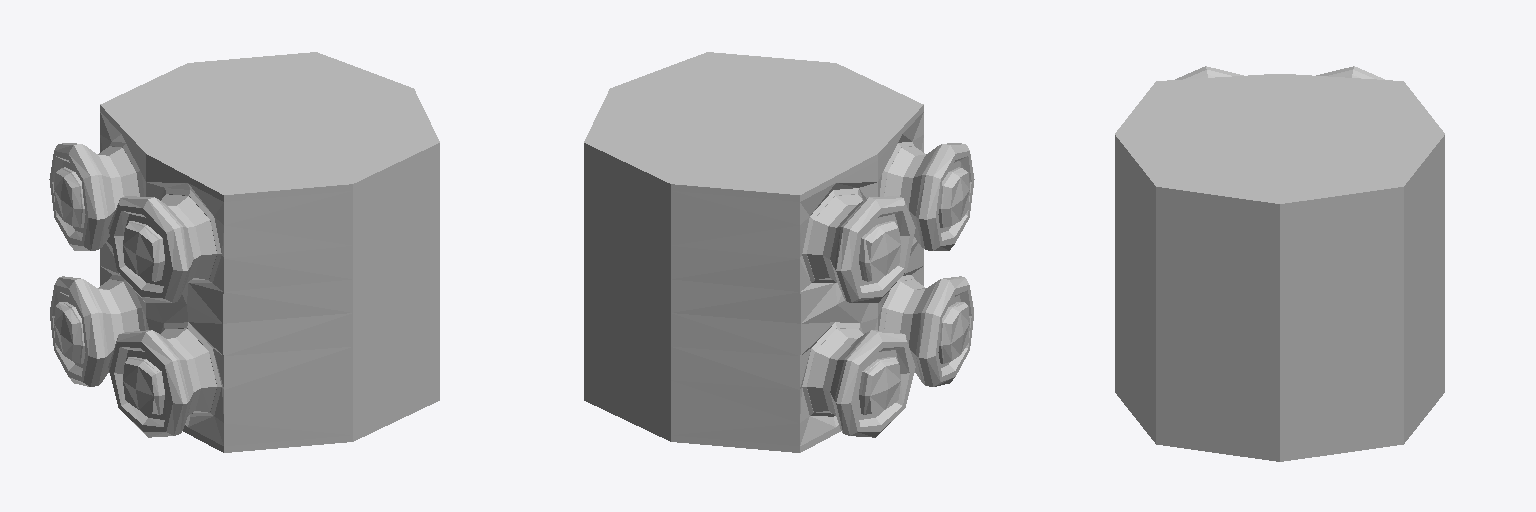
File: Tentacle_update_03.obj
3 renders of one model, left to right at view 1: azimuth 30°, elevation 25°; view 2: azimuth 150°, elevation 25°; view 3: azimuth 270°, elevation 25°, orthographic.
Parts seen in each view (by area): view 1: pCube9; view 2: pCube9; view 3: pCube9.
Part boxes in pixels (x1,y1,x2,y2): pCube9: (49,52,439,452); pCube9: (584,52,974,452); pCube9: (1115,66,1444,461).
Size of the model in its own units: 3.6 by 2.8 by 3.26.